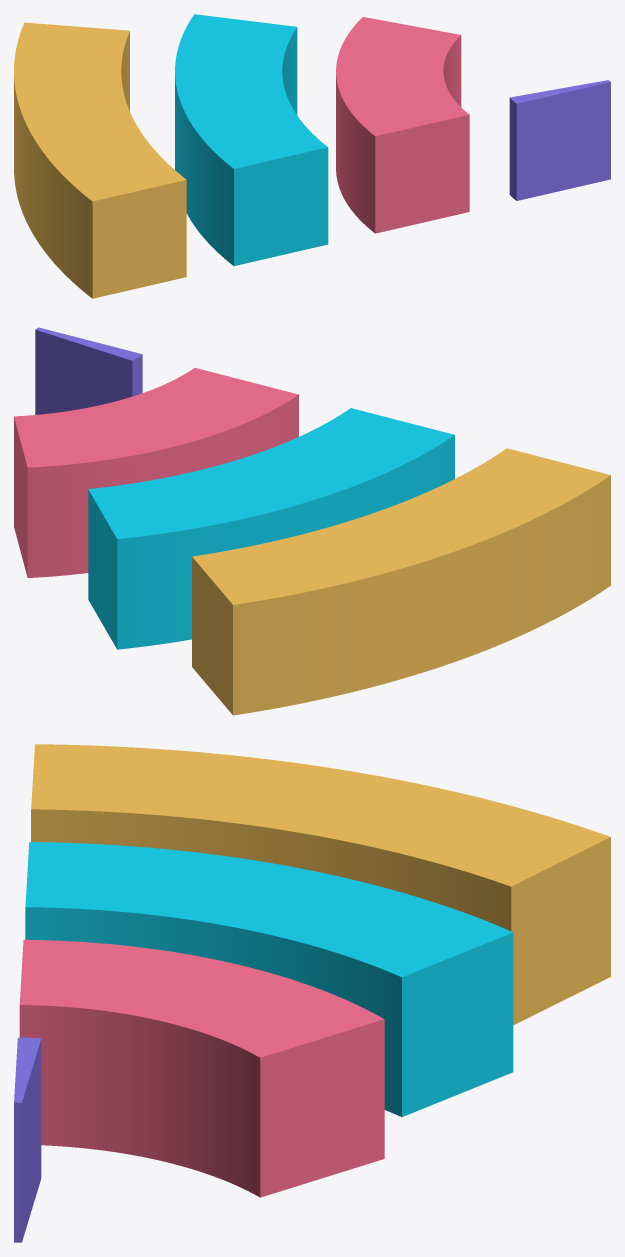
Rendered from refugees3.fbx.
3 views of the same model, one above another, from view 1: azimuth 30°, elevation 25°; view 2: azimuth 150°, elevation 25°; view 3: azimuth 270°, elevation 25° (orthographic). The views are drawn at different scales.
Visible parts, largest first — view 1: Refugees_2_obj; view 2: Refugees_2_obj; view 3: Refugees_2_obj.
Boxes of the visible parts, <box> form: Refugees_2_obj: <box>14,14,610,298</box>; Refugees_2_obj: <box>14,327,610,715</box>; Refugees_2_obj: <box>14,744,610,1242</box>.
Size of the model in its own units: 1.1 by 0.2 by 0.7739.
